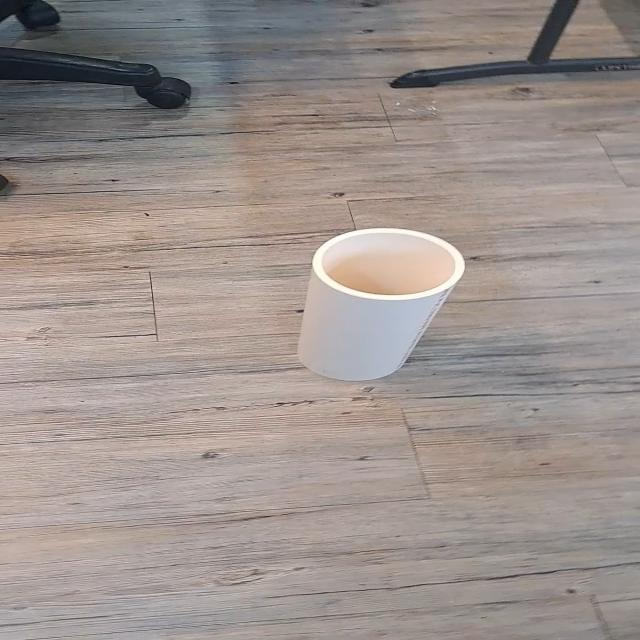CORAL: (267, 214, 476, 404)
